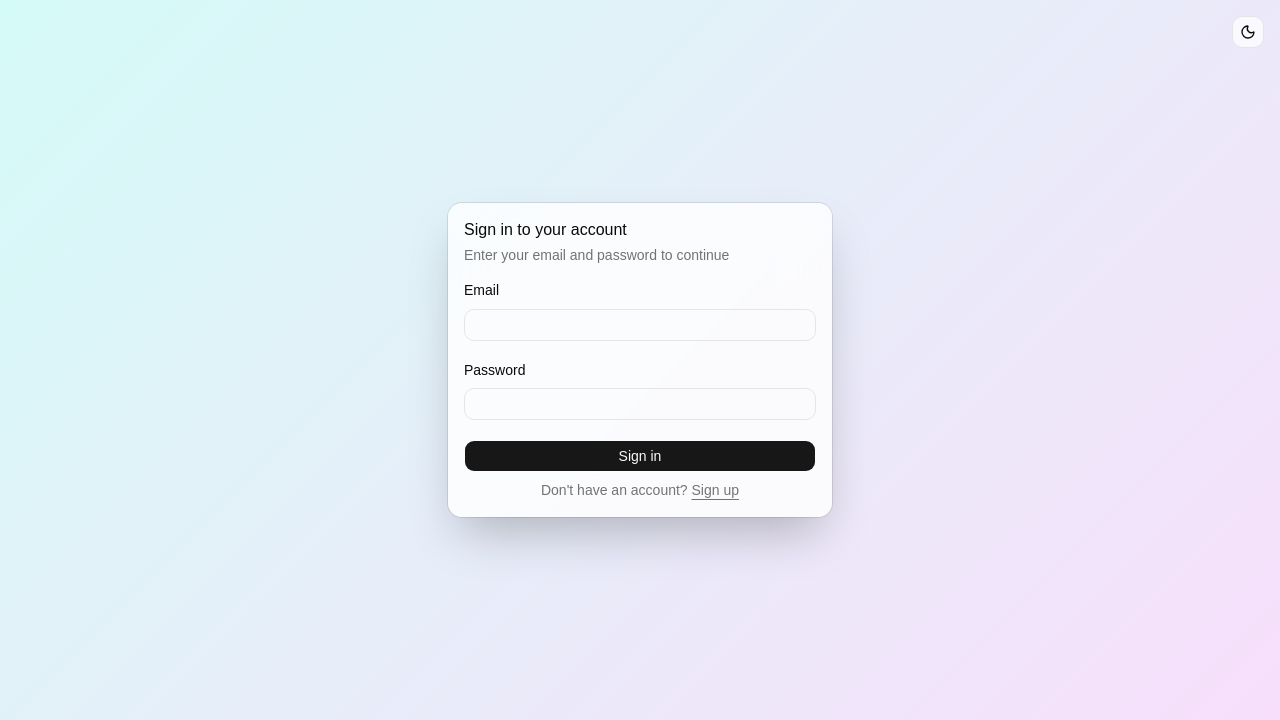
Test case: SignInPage › shows client validation errors before submitting
Check: the heading "Sign in to your account" is shown, box 464,221 -> 627,238
Click the button "Sign in": (640, 456) 464,440 -> 816,472
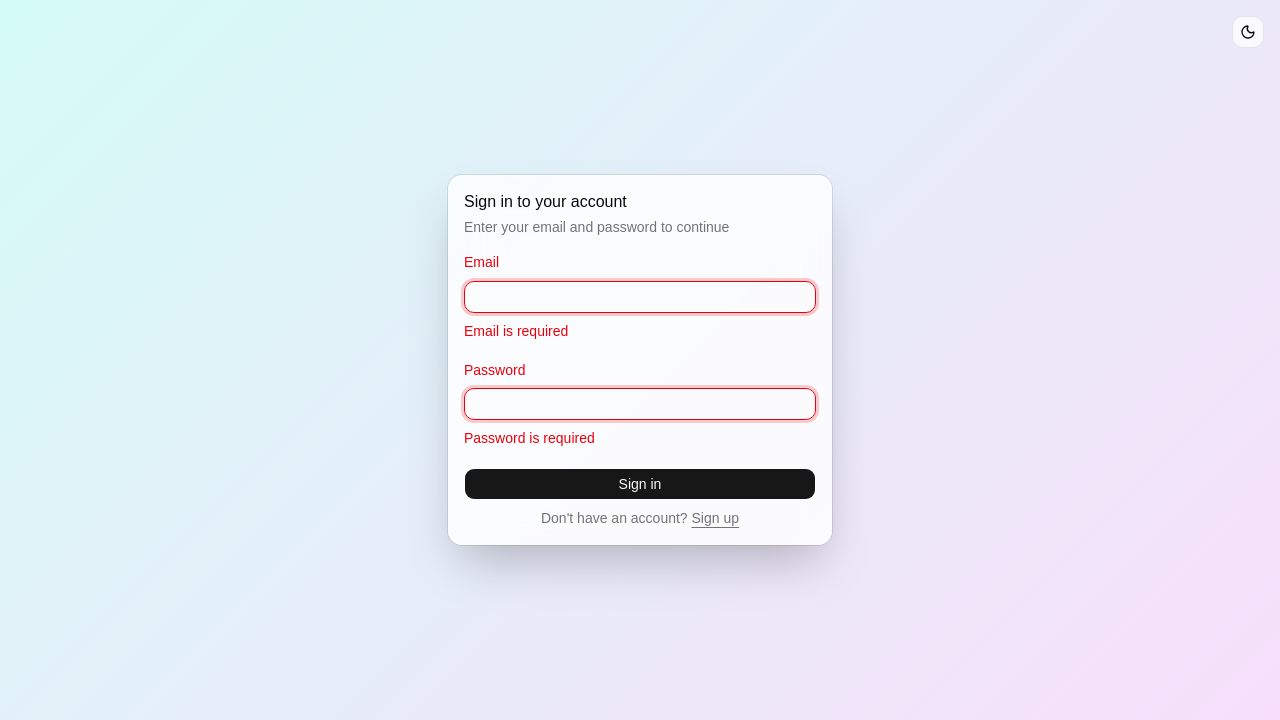
Check: the text "Email is required" is shown, box 464,322 -> 568,338
